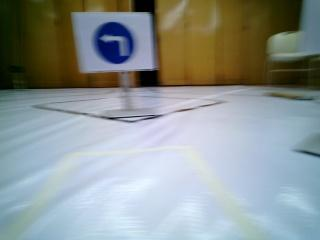left: (72, 14, 154, 71)
